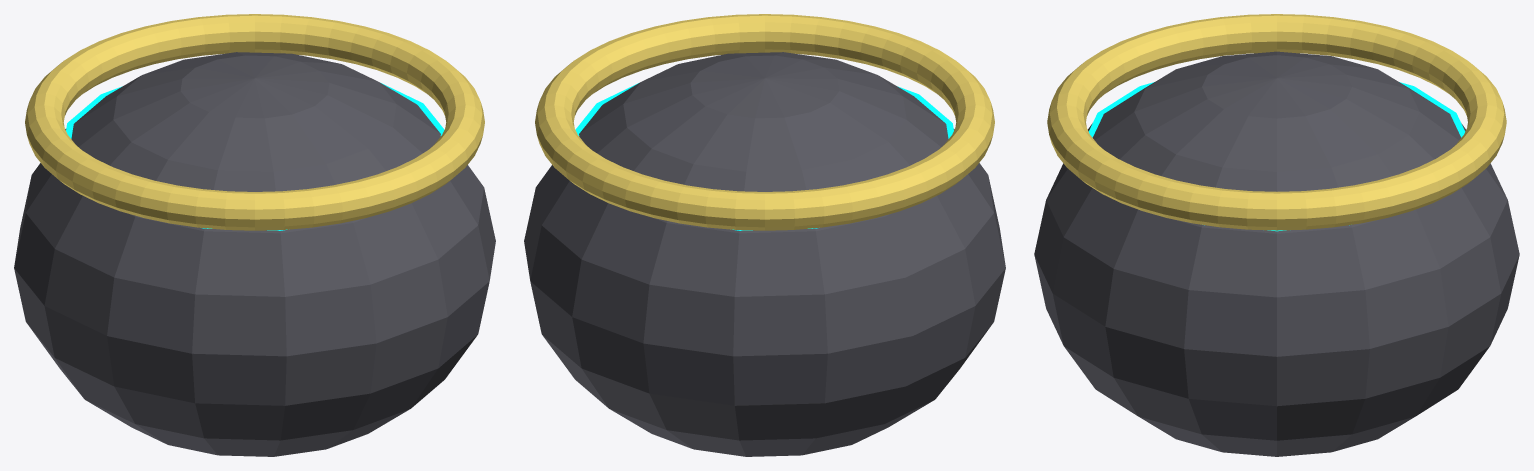
Rendered from alchemical_cauldron.fbx.
The picture shows the model from 3 angles, left to right: view 1: azimuth 30°, elevation 25°; view 2: azimuth 150°, elevation 25°; view 3: azimuth 270°, elevation 25°; orthographic projection.
Visible parts, largest first — view 1: Cylinder; view 2: Cylinder; view 3: Cylinder.
Part boxes in pixels (<box>): Cylinder: <box>14,14,495,456</box>; Cylinder: <box>524,14,1005,456</box>; Cylinder: <box>1034,14,1519,456</box>.
Size of the model in its own units: 300 by 240 by 300.
